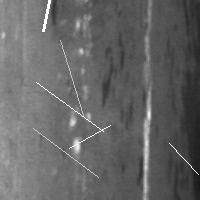scratches: (171, 34, 200, 200), (31, 77, 108, 136), (28, 123, 103, 182), (67, 12, 94, 156), (140, 6, 155, 198), (55, 35, 88, 120), (98, 34, 129, 107), (64, 120, 115, 153), (164, 138, 200, 179), (38, 0, 66, 36)
